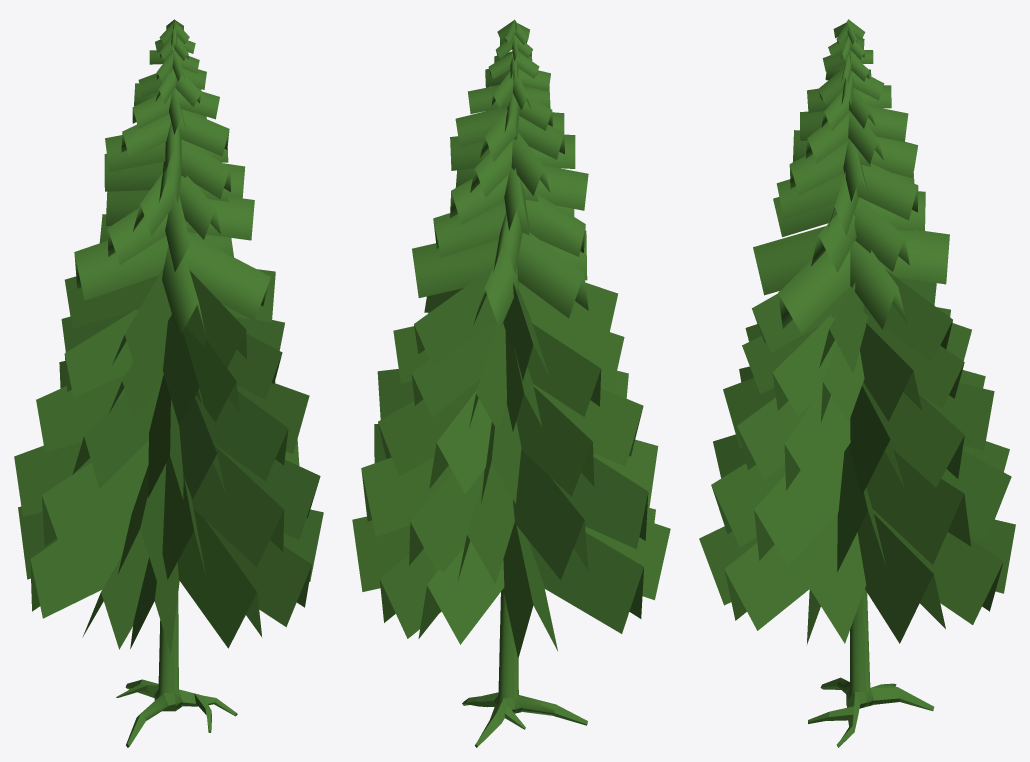
The model's file is Tree_Painter.fbx.
3 renders of one model, left to right at view 1: azimuth 30°, elevation 25°; view 2: azimuth 150°, elevation 25°; view 3: azimuth 270°, elevation 25°, orthographic.
Visible parts, largest first — view 1: Tree 01; view 2: Tree 01; view 3: Tree 01.
Part boxes in pixels (<box>): Tree 01: <box>14,19,323,747</box>; Tree 01: <box>352,19,670,747</box>; Tree 01: <box>699,19,1015,747</box>.
Size of the model in its own units: 191 by 485 by 197.
